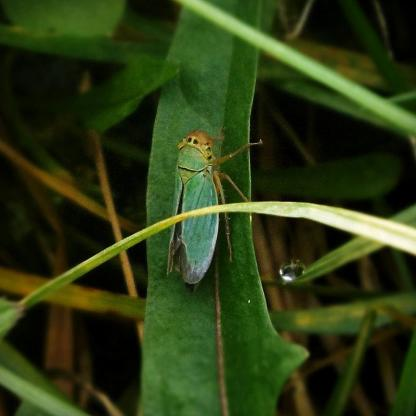Green-Leafhopper: (160, 121, 266, 289)
